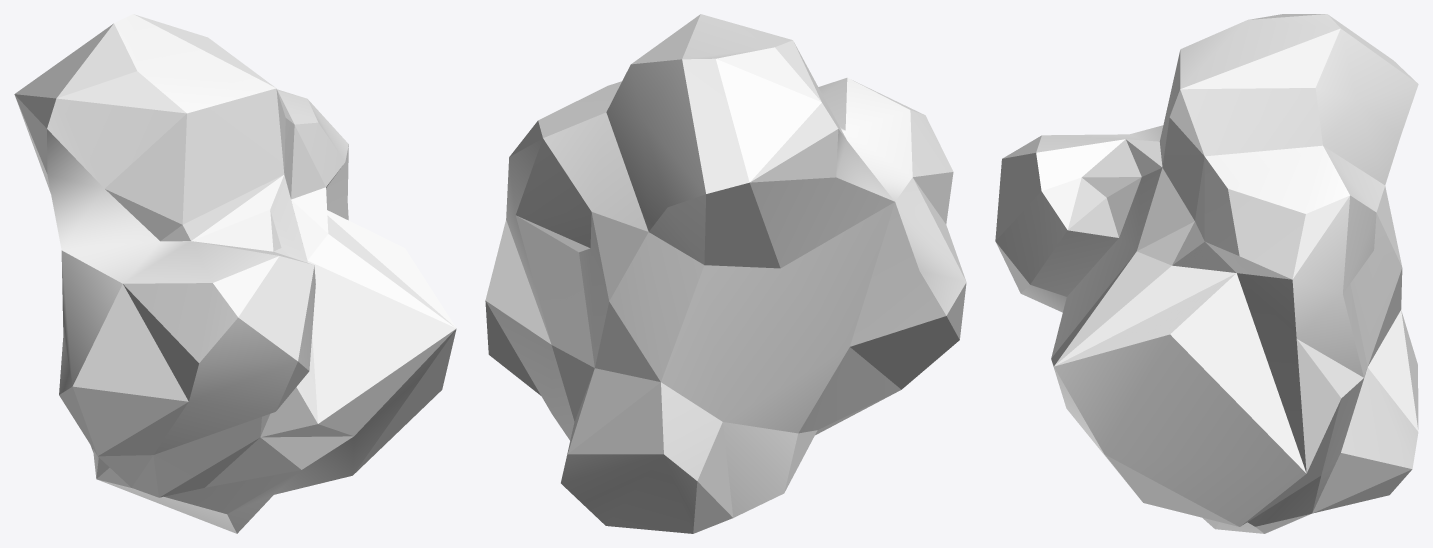
The model's file is ground.rock3.glb.
3 renders of one model, left to right at view 1: azimuth 30°, elevation 25°; view 2: azimuth 150°, elevation 25°; view 3: azimuth 270°, elevation 25°, orthographic. The views are drawn at different scales.
Parts seen in each view (by area): view 1: rock3; view 2: rock3; view 3: rock3.
Boxes of the visible parts, x1,y1,x2,y2 form: rock3: [14, 14, 456, 533]; rock3: [485, 14, 966, 533]; rock3: [995, 14, 1418, 533].
Bounding box in the file's own units: 1.04 × 1.3 × 1.03.
1 material, 1 textured.
